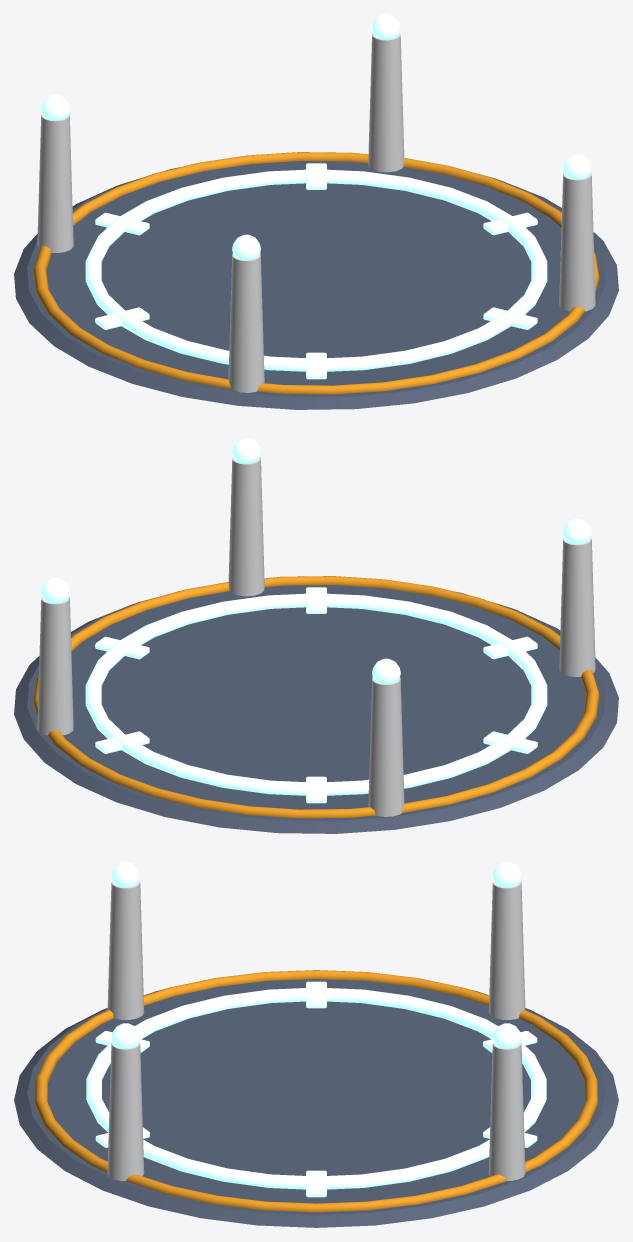
The model's file is checkpoint_ring.glb.
3 renders of one model, top to bottom at view 1: azimuth 30°, elevation 25°; view 2: azimuth 150°, elevation 25°; view 3: azimuth 270°, elevation 25°, orthographic.
Parts seen in each view (by area): view 1: objective-capture-point-ring, ring; view 2: objective-capture-point-ring, ring; view 3: objective-capture-point-ring, ring.
Boxes of the visible parts, x1,y1,x2,y2 form: objective-capture-point-ring: [14, 14, 618, 409]; ring: [85, 163, 547, 379]; objective-capture-point-ring: [14, 438, 618, 833]; ring: [85, 587, 547, 803]; objective-capture-point-ring: [14, 862, 618, 1227]; ring: [86, 981, 546, 1197].
Size of the model in its own units: 4.6 by 1.31 by 4.6.
